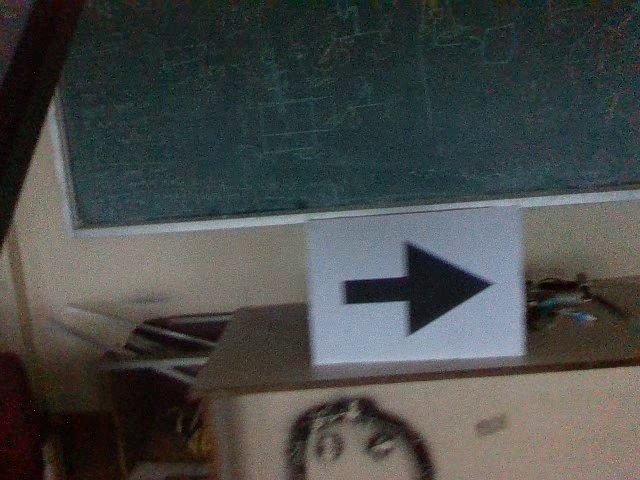Right: (330, 234, 500, 342)
